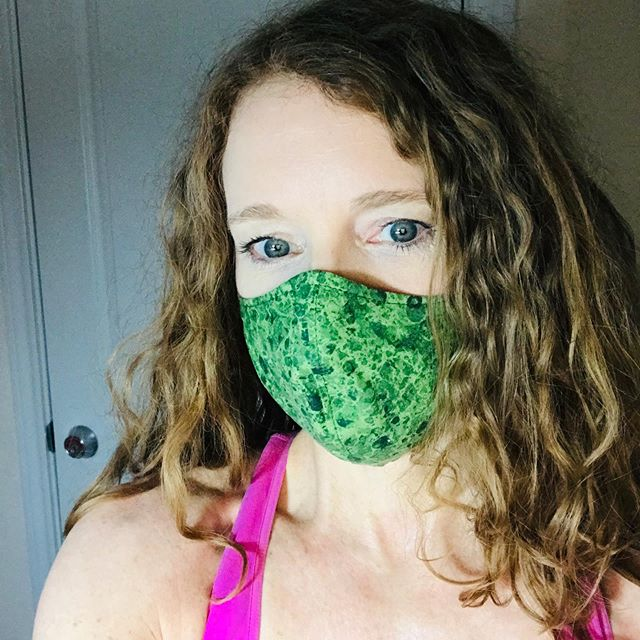homemade: (213, 273, 469, 473)
